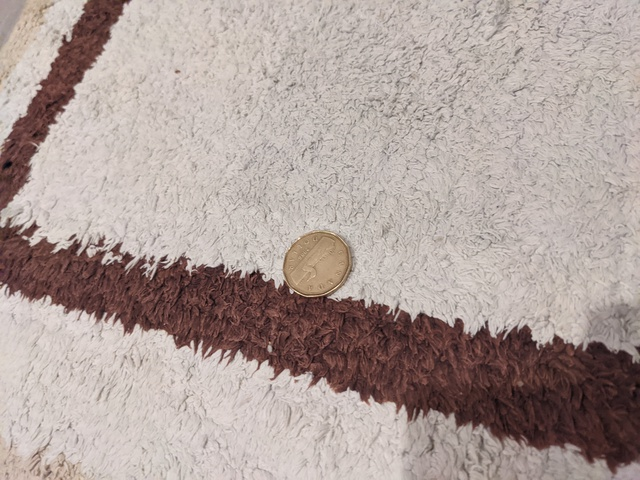loonie: (277, 229, 359, 302)
